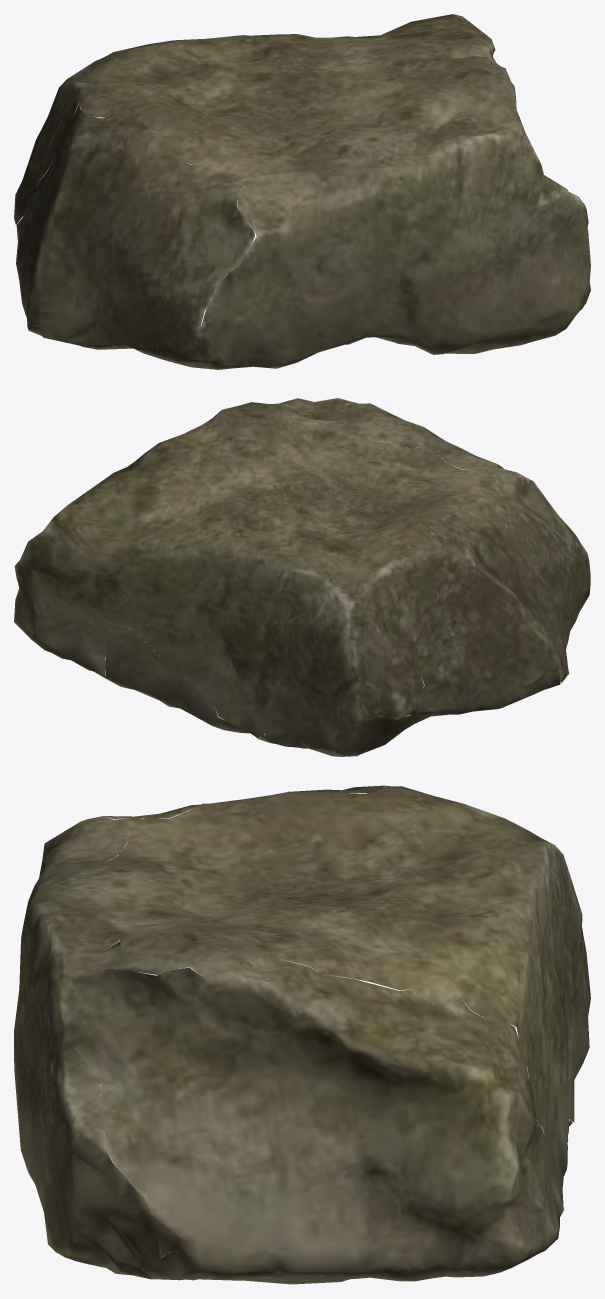
The model's file is rock-moss-set-02-rock07.glb.
3 renders of one model, top to bottom at view 1: azimuth 30°, elevation 25°; view 2: azimuth 150°, elevation 25°; view 3: azimuth 270°, elevation 25°, orthographic. The views are drawn at different scales.
Parts seen in each view (by area): view 1: rock_moss_set_02_rock07; view 2: rock_moss_set_02_rock07; view 3: rock_moss_set_02_rock07.
Part boxes in pixels (x1=…): rock_moss_set_02_rock07: x1=14, y1=14, x2=590, y2=369; rock_moss_set_02_rock07: x1=14, y1=398, x2=590, y2=756; rock_moss_set_02_rock07: x1=14, y1=785, x2=590, y2=1284.
Bounding box in the file's own units: 1.69 × 0.743 × 1.22.
Materials: 1 (1 with a texture image).
